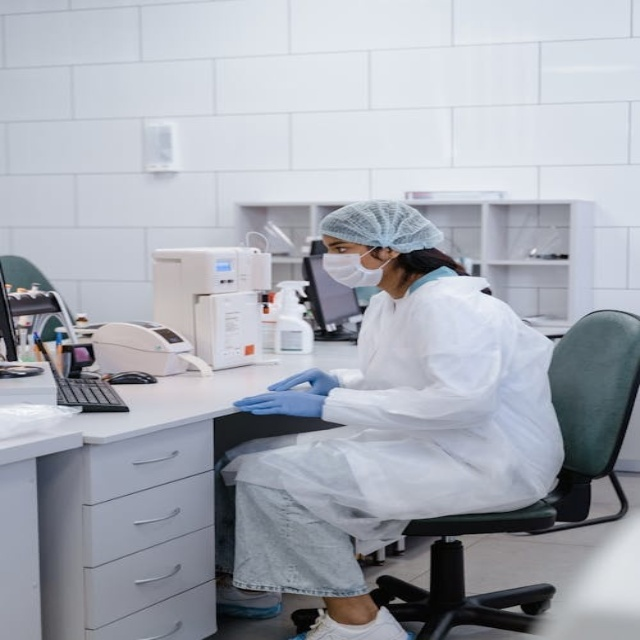Guantes: (233, 389, 330, 419), (267, 368, 340, 395)
Mascara: (323, 247, 389, 290)
Sin_gafas: (320, 239, 357, 255)
